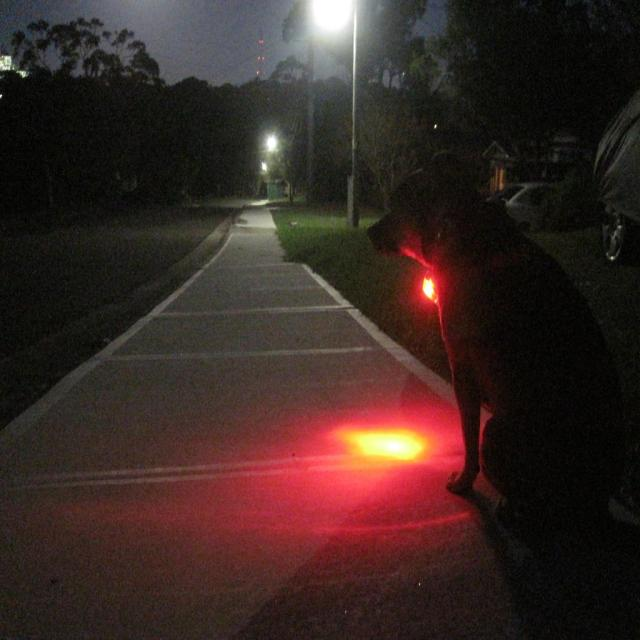Dog: (373, 206, 640, 584)
